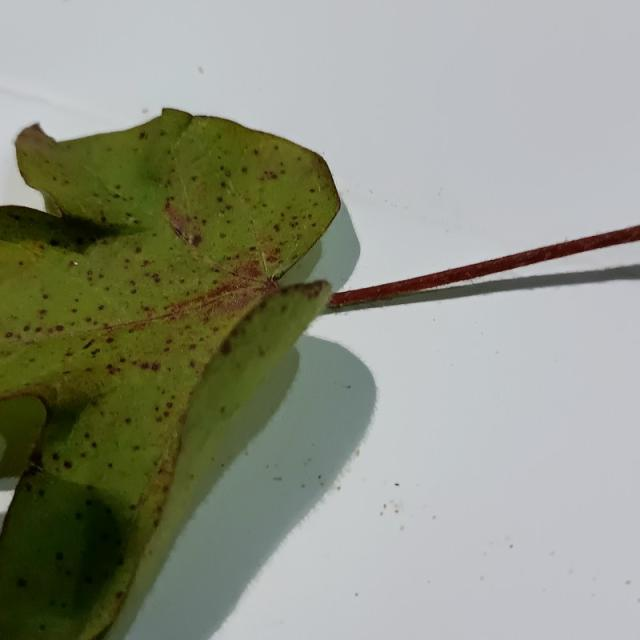Bacterial_Blight: (226, 258, 266, 284), (297, 279, 326, 298), (28, 448, 45, 470), (35, 286, 58, 302), (219, 339, 233, 356), (185, 353, 198, 370), (125, 287, 142, 299), (120, 412, 134, 426), (106, 363, 119, 375), (263, 170, 278, 180), (124, 212, 137, 223), (82, 339, 95, 350), (191, 234, 202, 246), (132, 242, 142, 255), (17, 577, 27, 588), (151, 273, 161, 283), (150, 362, 160, 372), (54, 551, 64, 561), (84, 575, 94, 585), (49, 239, 60, 248), (257, 345, 265, 357), (37, 487, 46, 497), (74, 511, 83, 521), (63, 460, 72, 469), (84, 498, 93, 507), (267, 255, 277, 263), (317, 155, 325, 165), (38, 309, 47, 317), (51, 452, 59, 461), (141, 259, 150, 267), (139, 131, 147, 140), (115, 590, 123, 598), (106, 337, 115, 344), (188, 344, 197, 351), (55, 325, 64, 332), (69, 260, 78, 267), (241, 166, 248, 174), (86, 269, 93, 277), (273, 224, 280, 232), (290, 221, 298, 228), (224, 170, 231, 178), (162, 411, 170, 418), (219, 232, 227, 239), (39, 624, 46, 632), (216, 196, 223, 203), (225, 204, 232, 211), (166, 402, 173, 409), (23, 325, 30, 332), (129, 280, 136, 287), (155, 416, 162, 423), (188, 473, 195, 480), (625, 579, 632, 586), (248, 246, 256, 252), (5, 332, 13, 338), (112, 193, 120, 199), (273, 476, 282, 481), (97, 305, 104, 311), (71, 308, 78, 314), (119, 357, 126, 363), (91, 441, 97, 448), (133, 445, 140, 451), (107, 462, 113, 469), (219, 406, 225, 413), (315, 186, 321, 193), (279, 169, 285, 175), (253, 149, 259, 155), (18, 260, 24, 266), (311, 222, 317, 228), (508, 543, 514, 549), (568, 568, 574, 574), (549, 550, 555, 556), (309, 188, 316, 193), (355, 450, 360, 457), (317, 474, 322, 480), (399, 525, 404, 531), (345, 384, 351, 389), (394, 509, 399, 514), (336, 486, 341, 491), (394, 482, 399, 487), (432, 515, 437, 520), (354, 592, 359, 597), (301, 483, 305, 489), (383, 503, 387, 509), (379, 511, 383, 516)
Cotton: (0, 109, 339, 639)
